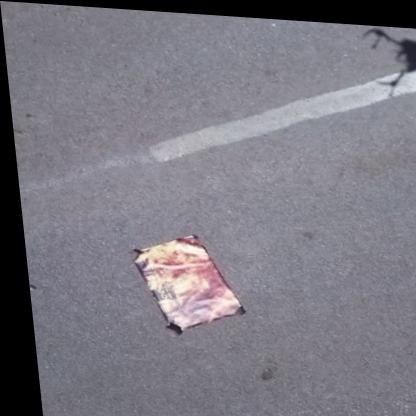fire-poster: (122, 228, 242, 338)
